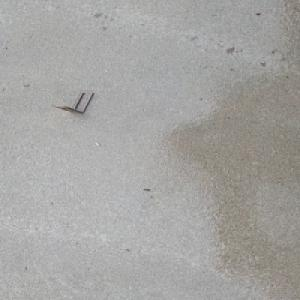MetalPart: (50, 90, 94, 113)
